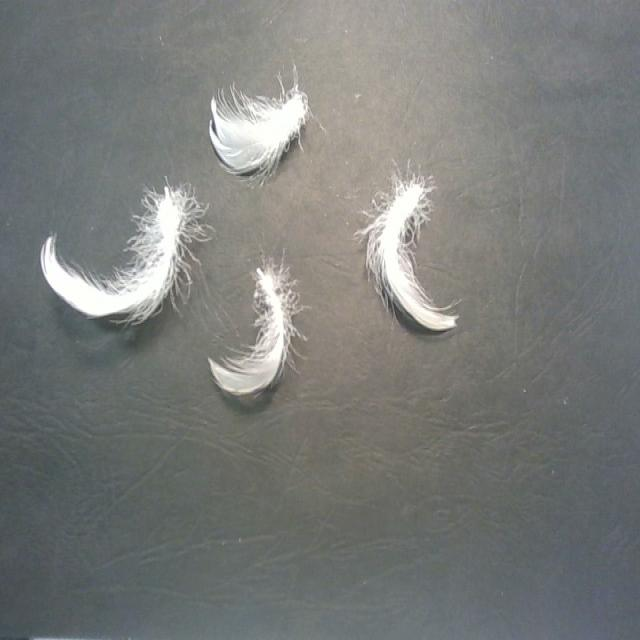feather: (38, 168, 207, 336), (362, 160, 460, 331), (205, 259, 309, 397), (206, 64, 315, 169)
